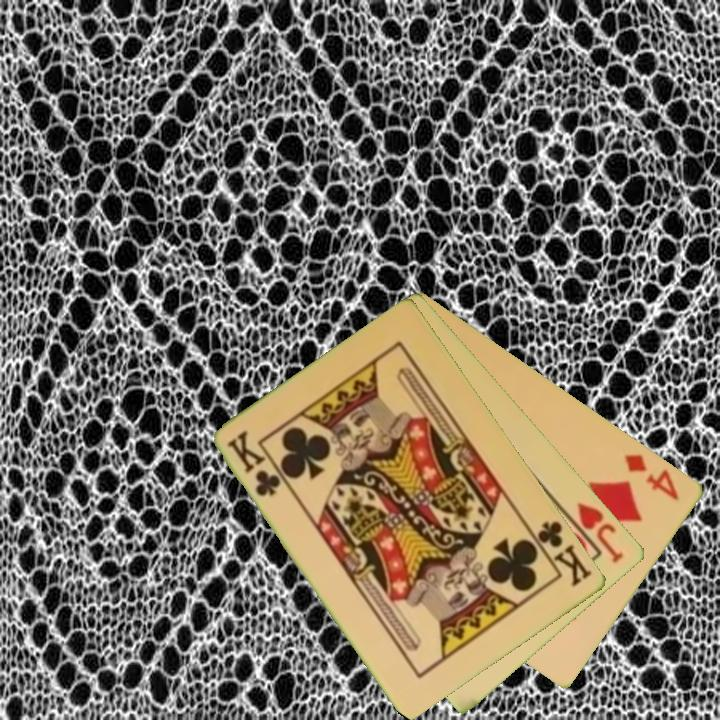4d: (621, 450, 683, 503)
Jh: (574, 498, 628, 567)
Kc: (526, 517, 596, 590), (224, 427, 285, 500)
